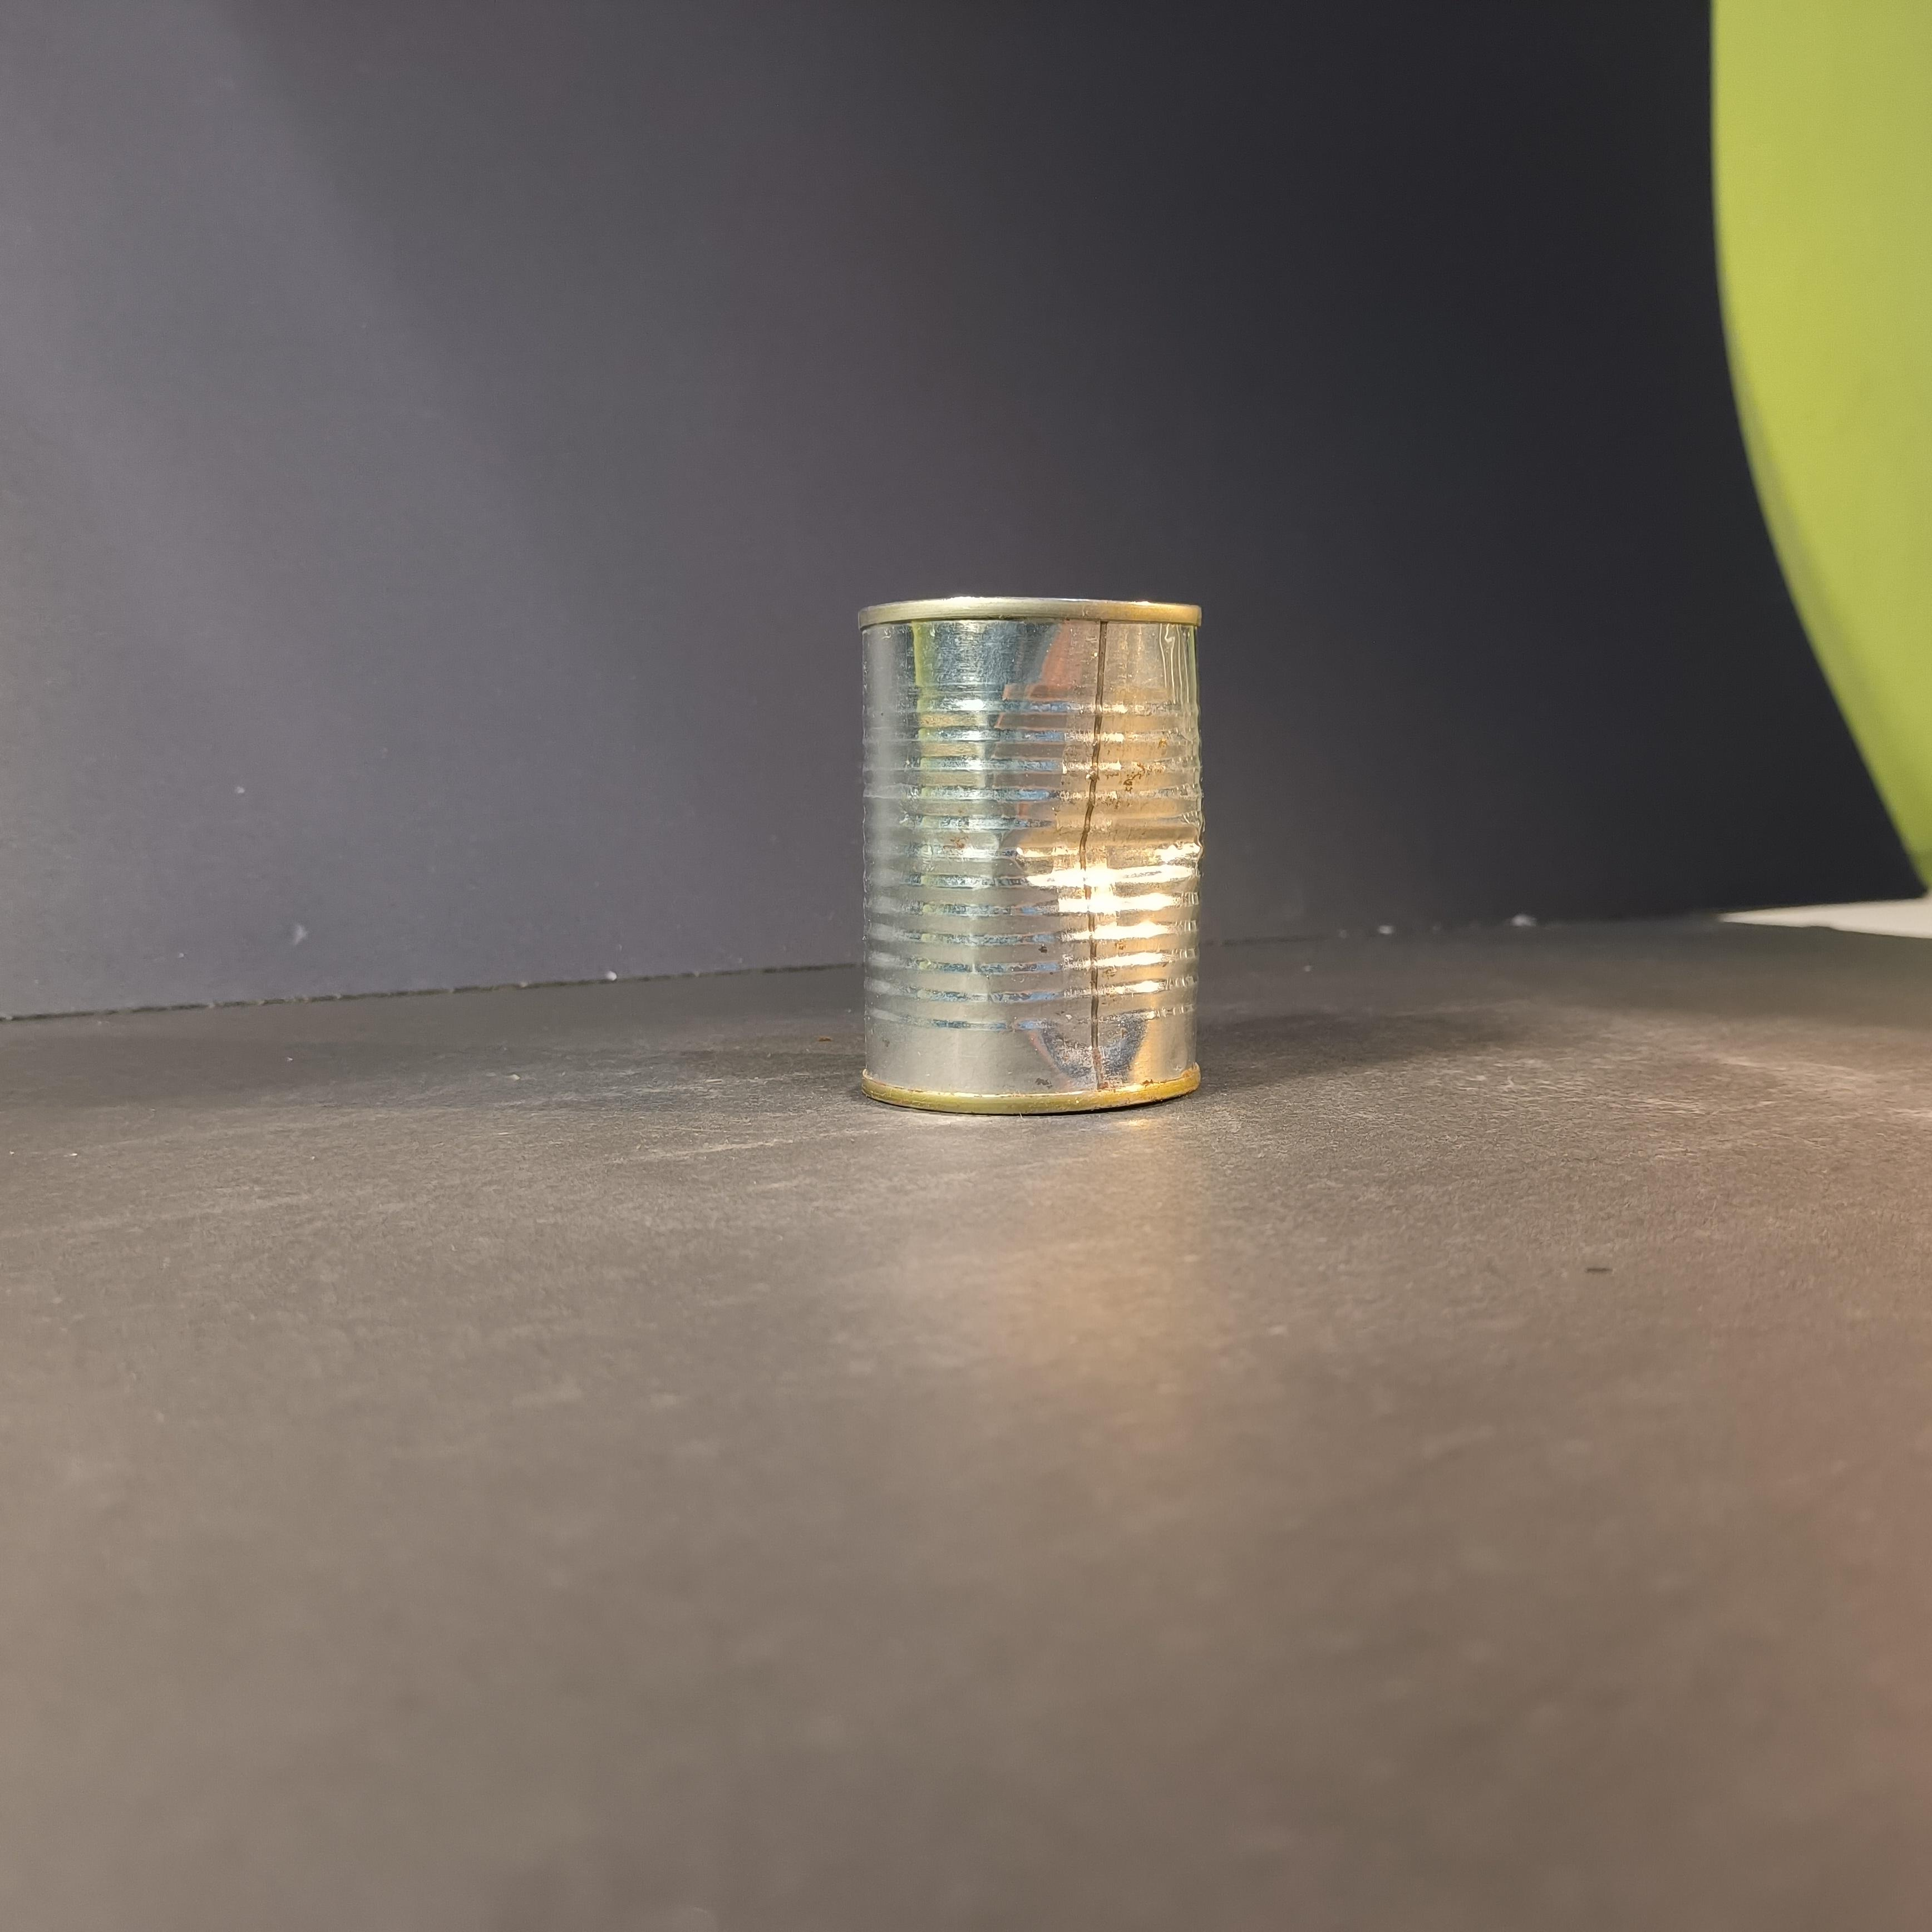Minor Defect: (854, 590, 1210, 1122)
